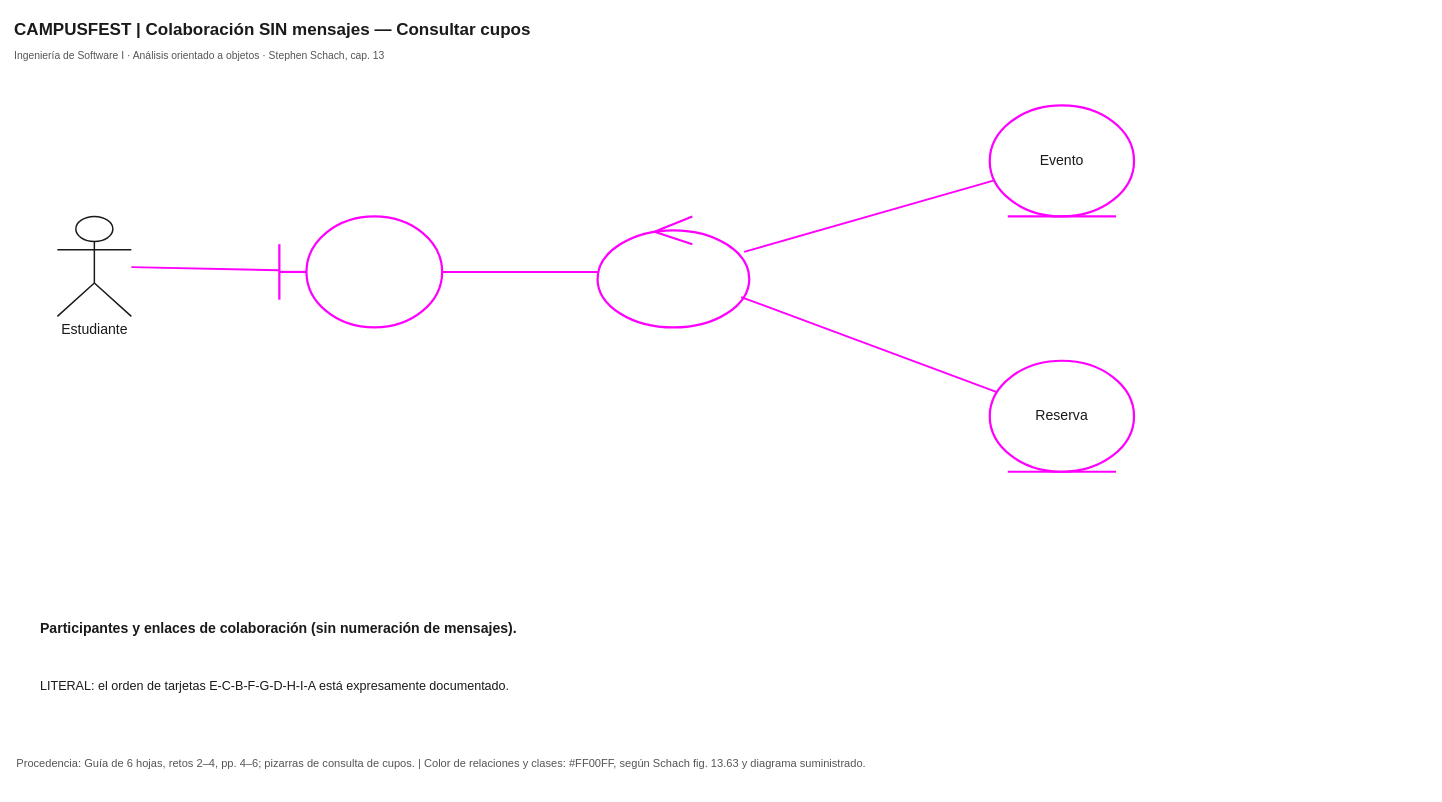
Image size: 1442x802. Some labels were removed from this diagram. Here are the shapes that lost their labels. From the top down, the centre of each, then its label:
pixel 360 271: PantallaEventos
pixel 673 271: CalcularDisponibilidad
